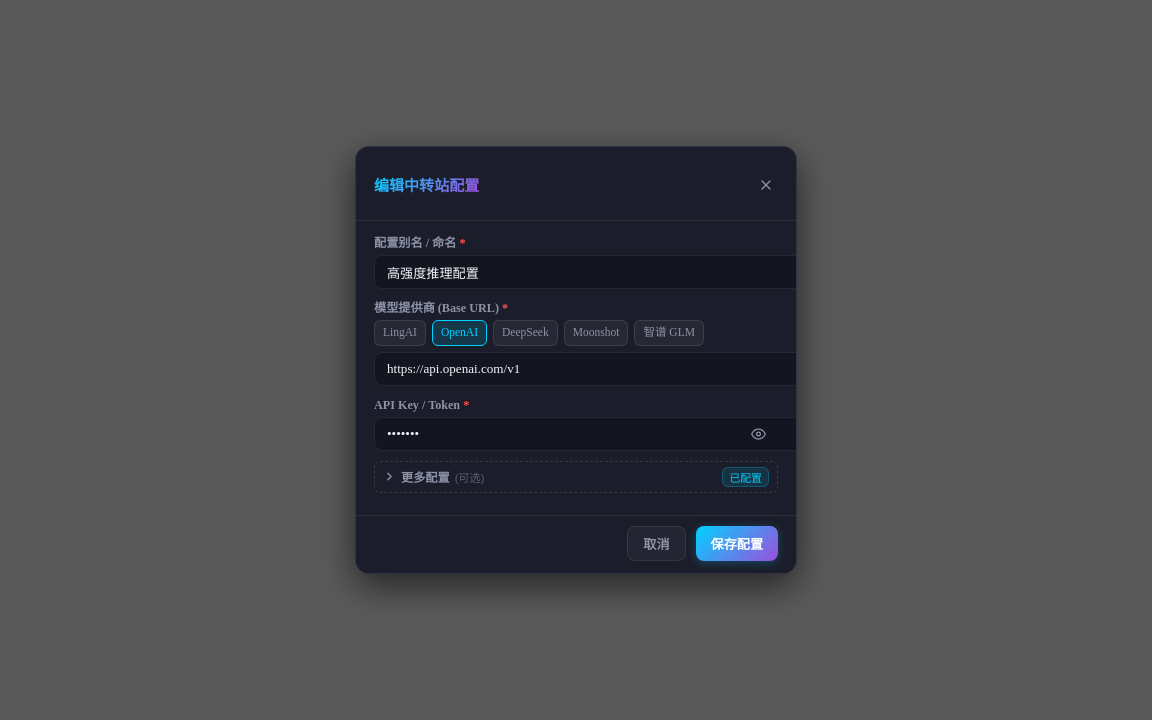
Test case: PresetModal.vue component › 当 initialData 包含更多配置时应显示已配置徽章并在展开后正确回填
Expected: the text "已配置" is shown, [722, 467, 769, 487]
Expected: the text with class "configured-badge" reads "已配置", [729, 472, 762, 484]
Note: 展开并验证回填值
Click the button with class "more-config-toggle" at point(425, 478), box [374, 461, 778, 493]
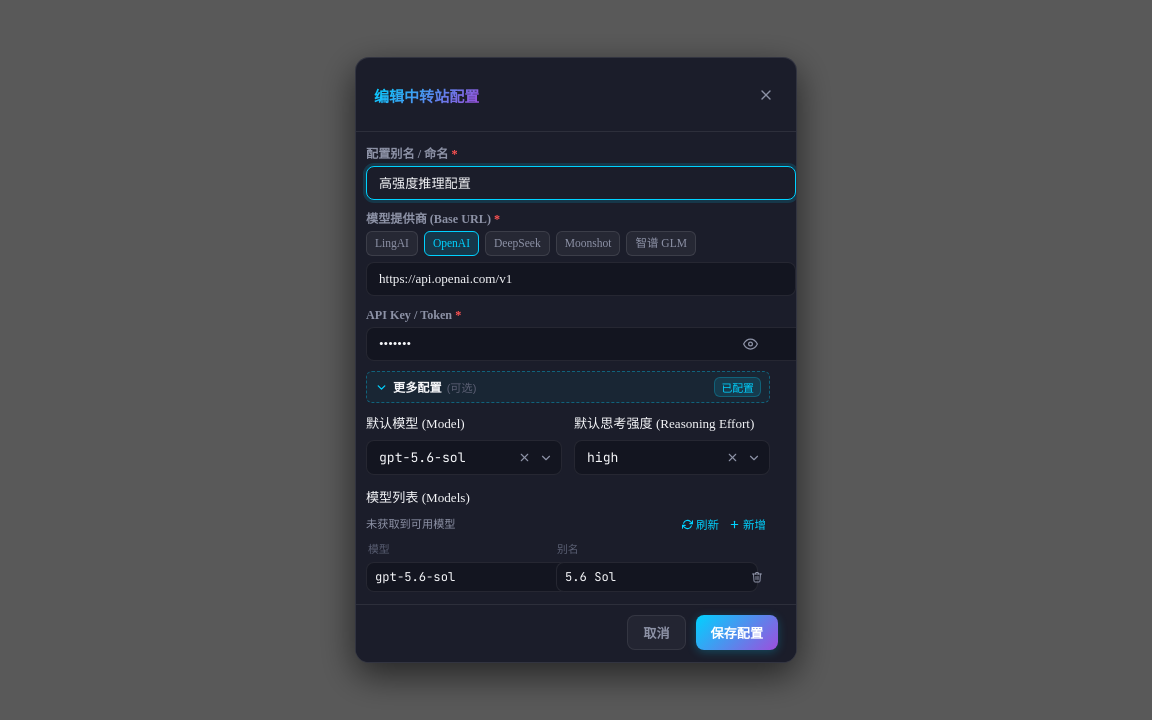
Result: the field with id "modal-preset-model" holds "gpt-5.6-sol" at [366, 440, 562, 475]
Result: the 6th field holds "5.6 Sol" at [556, 562, 758, 592]
